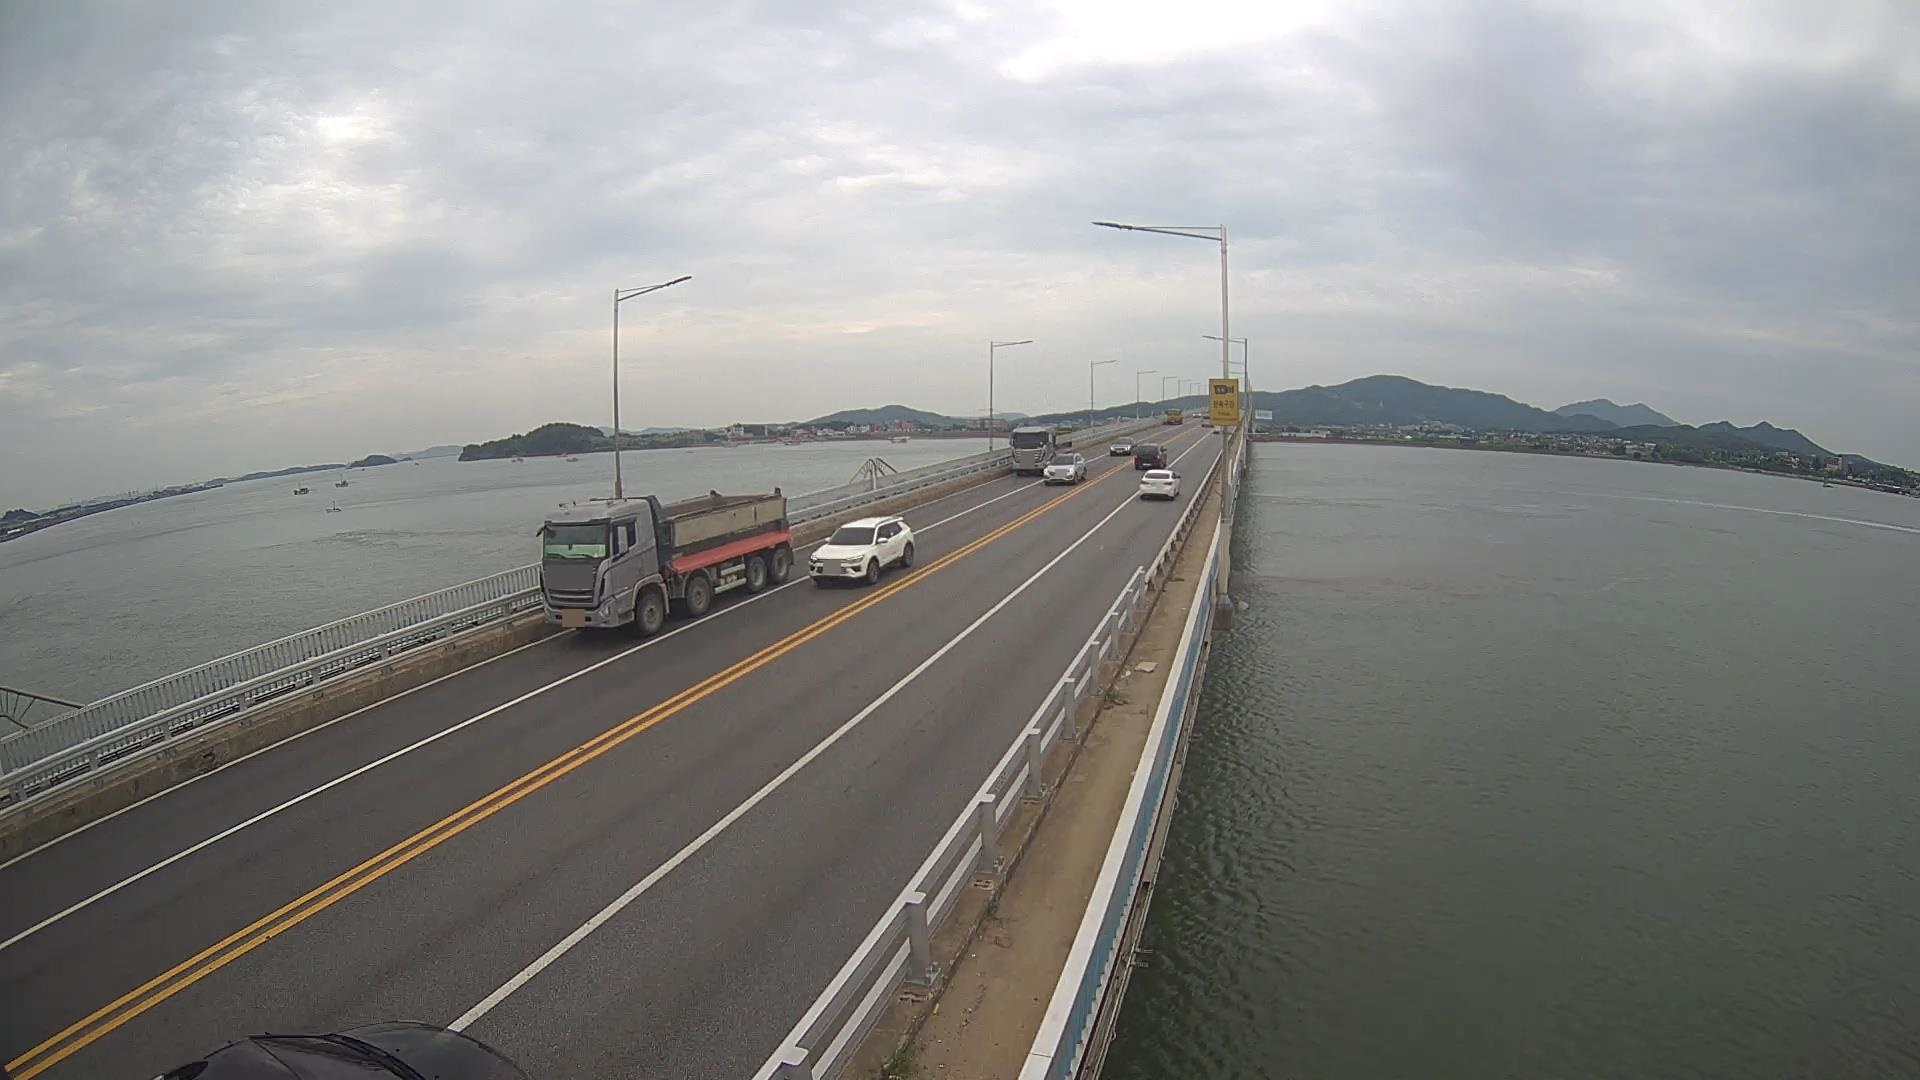정상차량: (535, 487, 794, 637)
